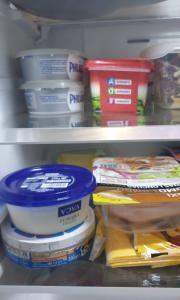Mantequilla: (84, 60, 154, 116)
Queso: (0, 206, 96, 270)
